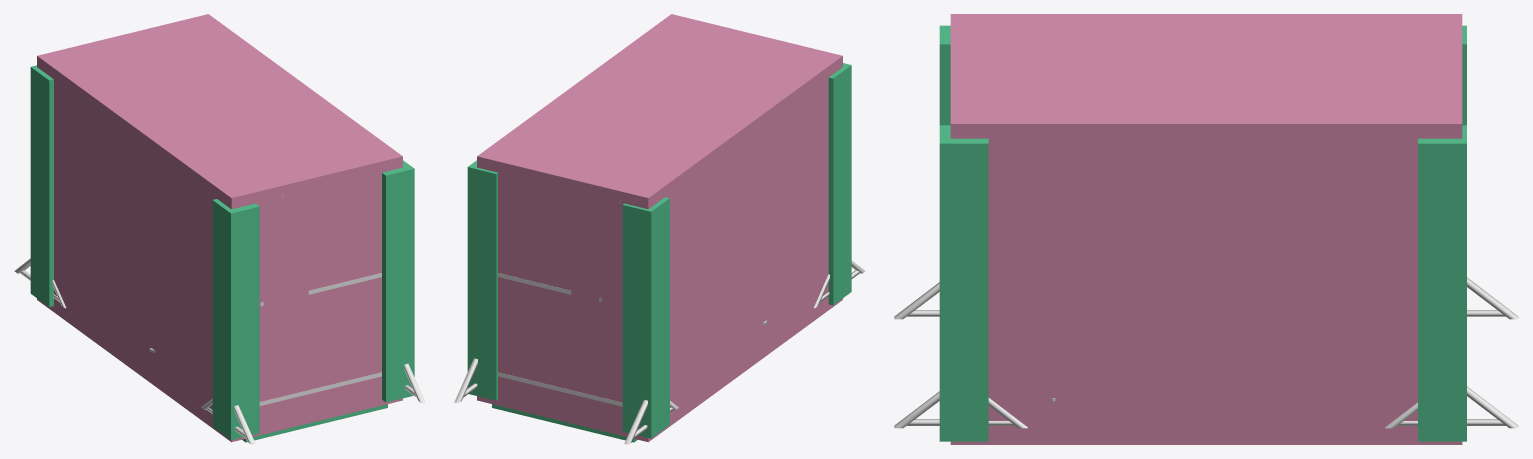
The model's file is ind_obj_01_a.dae.
3 renders of one model, left to right at view 1: azimuth 30°, elevation 25°; view 2: azimuth 150°, elevation 25°; view 3: azimuth 270°, elevation 25°, orthographic. The views are drawn at different scales.
Parts seen in each view (by area): view 1: Untitled, Colmesh-1, tree_oak_bush_a300; view 2: Untitled, Colmesh-1, tree_oak_bush_a300; view 3: Untitled, Colmesh-1, tree_oak_bush_a300.
Part boxes in pixels (<box>): Untitled: <box>37,14,402,442</box>; Colmesh-1: <box>30,65,414,442</box>; tree_oak_bush_a300: <box>14,194,425,444</box>; Untitled: <box>477,14,842,442</box>; Colmesh-1: <box>467,63,851,442</box>; tree_oak_bush_a300: <box>454,200,865,444</box>; Untitled: <box>950,14,1462,444</box>; Colmesh-1: <box>939,25,1466,441</box>; tree_oak_bush_a300: <box>894,277,1518,428</box>.
Size of the model in its own units: 1.36 by 3.05 by 1.76.
